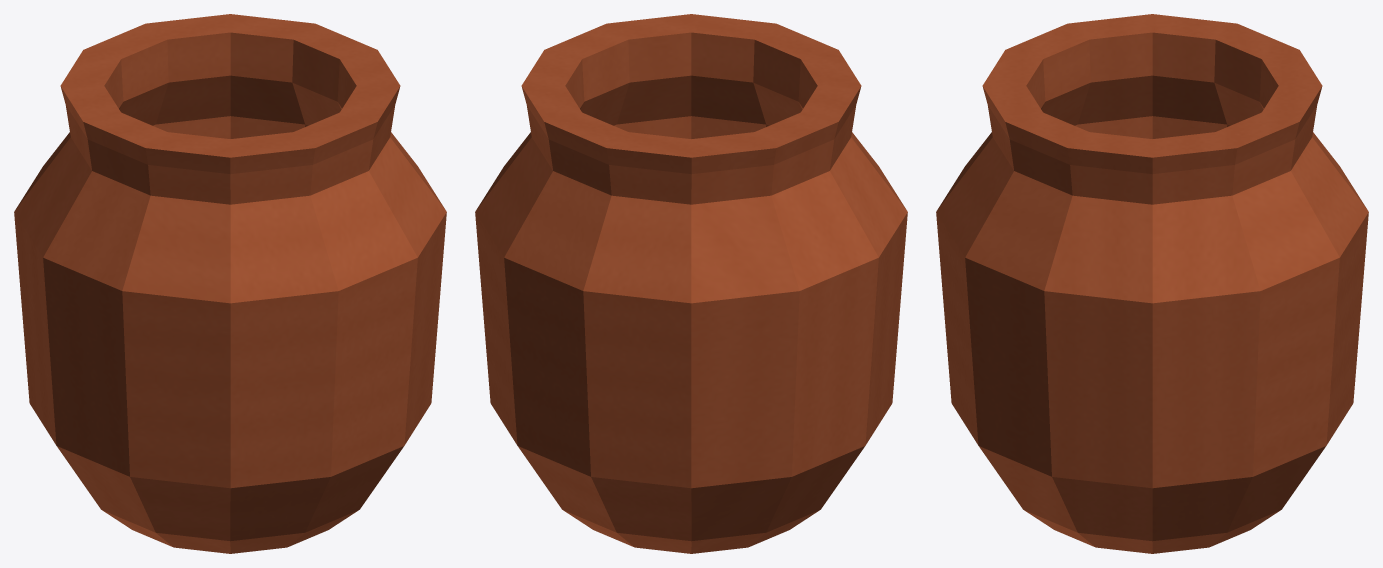
The model's file is Prop_TerracottaJar.obj.
The picture shows the model from 3 angles, left to right: view 1: azimuth 30°, elevation 25°; view 2: azimuth 150°, elevation 25°; view 3: azimuth 270°, elevation 25°; orthographic projection.
Visible parts, largest first — view 1: Hollow_jar; view 2: Hollow_jar; view 3: Hollow_jar.
Part boxes in pixels (x1,y1,x2,y2): Hollow_jar: [14, 14, 446, 553]; Hollow_jar: [475, 14, 907, 553]; Hollow_jar: [936, 14, 1368, 553].
Bounding box in the file's own units: 0.84 × 0.9 × 0.84.
Materials: 1 (1 with a texture image).
